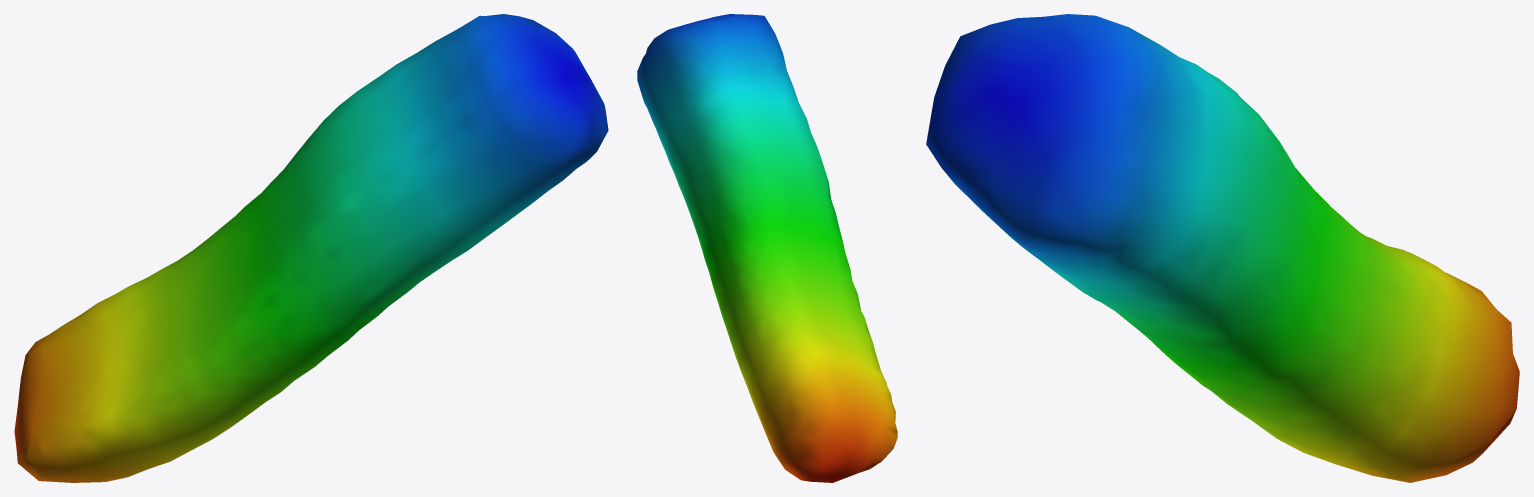
File: 0001_2_01  1022_norm_.obj
The picture shows the model from 3 angles, left to right: view 1: azimuth 30°, elevation 25°; view 2: azimuth 150°, elevation 25°; view 3: azimuth 270°, elevation 25°; orthographic projection. The views are drawn at different scales.
Size of the model in its own units: 5.01 by 4.85 by 4.25.
